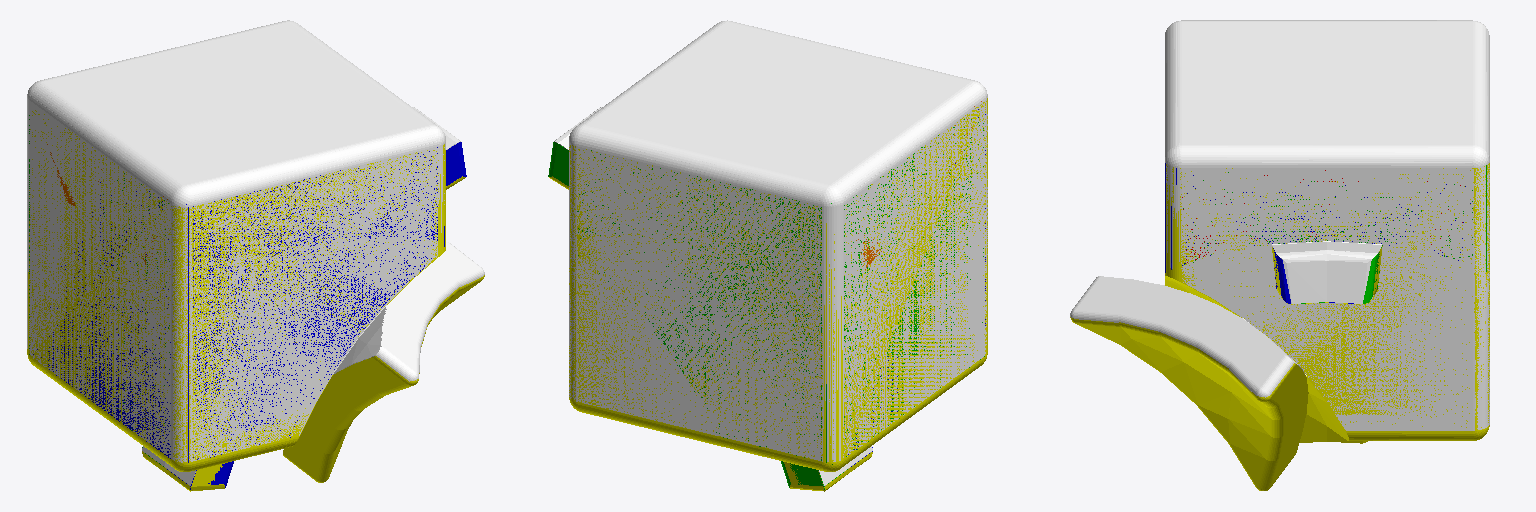
robot.urdf — rubix_cube:
<?xml version="1.0" encoding="UTF-8"?>
<robot name="rubix_cube">

  <!-- s = 0.019m: center-to-center distance between adjacent cubies (57mm cube / 3) -->

  <!-- ======== CORE ======== -->
  <link name="base_link">
    <visual>
      <geometry><mesh filename="package://rubix_cube/meshes/Center_Part.stl"/></geometry>
      <material><color rgba="0.2 0.2 0.2 1"/></material>
    </visual>
    <collision>
      <geometry><box size="0.057 0.057 0.057"/></geometry>
    </collision>
    <inertial>
      <mass value="0.3"/>
      <inertia ixx="0.001" ixy="0" ixz="0" iyy="0.001" iyz="0" izz="0.001"/>
    </inertial>
  </link>

  <!-- ======== TOP FACE (Z+, white) ======== -->
  <joint name="top_joint" type="revolute">
    <parent link="base_link"/><child link="top_face"/>
    <origin xyz="0 0 0" rpy="0 0 0"/>
    <axis xyz="0 0 1"/>
    <limit lower="-6.28" upper="6.28" effort="10" velocity="1"/>
  </joint>
  <link name="top_face">
    <inertial><mass value="0.05"/><inertia ixx="0.00001" ixy="0" ixz="0" iyy="0.00001" iyz="0" izz="0.00001"/></inertial>
  </link>

  <joint name="top_center_joint" type="fixed">
    <parent link="top_face"/><child link="top_center"/>
    <origin xyz="0 0 0.019" rpy="0 0 0"/>
  </joint>
  <link name="top_center">
    <visual><geometry><mesh filename="package://rubix_cube/meshes/Middle Square.stl"/></geometry><material><color rgba="1 1 1 1"/></material></visual>
    <inertial><mass value="0.005"/><inertia ixx="0.000001" ixy="0" ixz="0" iyy="0.000001" iyz="0" izz="0.000001"/></inertial>
  </link>

  <joint name="top_front_edge_joint" type="fixed">
    <parent link="top_face"/><child link="top_front_edge"/>
    <origin xyz="0 0.019 0.019" rpy="0 0 0"/>
  </joint>
  <link name="top_front_edge">
    <visual><geometry><mesh filename="package://rubix_cube/meshes/Edge Square.stl"/></geometry><material><color rgba="1 1 1 1"/></material></visual>
    <inertial><mass value="0.005"/><inertia ixx="0.000001" ixy="0" ixz="0" iyy="0.000001" iyz="0" izz="0.000001"/></inertial>
  </link>

  <joint name="top_back_edge_joint" type="fixed">
    <parent link="top_face"/><child link="top_back_edge"/>
    <origin xyz="0 -0.019 0.019" rpy="0 0 0"/>
  </joint>
  <link name="top_back_edge">
    <visual><geometry><mesh filename="package://rubix_cube/meshes/Edge Square.stl"/></geometry><material><color rgba="1 1 1 1"/></material></visual>
    <inertial><mass value="0.005"/><inertia ixx="0.000001" ixy="0" ixz="0" iyy="0.000001" iyz="0" izz="0.000001"/></inertial>
  </link>

  <joint name="top_right_edge_joint" type="fixed">
    <parent link="top_face"/><child link="top_right_edge"/>
    <origin xyz="0.019 0 0.019" rpy="0 0 0"/>
  </joint>
  <link name="top_right_edge">
    <visual><geometry><mesh filename="package://rubix_cube/meshes/Edge Square.stl"/></geometry><material><color rgba="1 1 1 1"/></material></visual>
    <inertial><mass value="0.005"/><inertia ixx="0.000001" ixy="0" ixz="0" iyy="0.000001" iyz="0" izz="0.000001"/></inertial>
  </link>

  <joint name="top_left_edge_joint" type="fixed">
    <parent link="top_face"/><child link="top_left_edge"/>
    <origin xyz="-0.019 0 0.019" rpy="0 0 0"/>
  </joint>
  <link name="top_left_edge">
    <visual><geometry><mesh filename="package://rubix_cube/meshes/Edge Square.stl"/></geometry><material><color rgba="1 1 1 1"/></material></visual>
    <inertial><mass value="0.005"/><inertia ixx="0.000001" ixy="0" ixz="0" iyy="0.000001" iyz="0" izz="0.000001"/></inertial>
  </link>

  <joint name="top_front_right_corner_joint" type="fixed">
    <parent link="top_face"/><child link="top_front_right_corner"/>
    <origin xyz="0.019 0.019 0.019" rpy="0 0 0"/>
  </joint>
  <link name="top_front_right_corner">
    <visual><geometry><mesh filename="package://rubix_cube/meshes/Corner Square.stl"/></geometry><material><color rgba="1 1 1 1"/></material></visual>
    <inertial><mass value="0.005"/><inertia ixx="0.000001" ixy="0" ixz="0" iyy="0.000001" iyz="0" izz="0.000001"/></inertial>
  </link>

  <joint name="top_front_left_corner_joint" type="fixed">
    <parent link="top_face"/><child link="top_front_left_corner"/>
    <origin xyz="-0.019 0.019 0.019" rpy="0 0 0"/>
  </joint>
  <link name="top_front_left_corner">
    <visual><geometry><mesh filename="package://rubix_cube/meshes/Corner Square.stl"/></geometry><material><color rgba="1 1 1 1"/></material></visual>
    <inertial><mass value="0.005"/><inertia ixx="0.000001" ixy="0" ixz="0" iyy="0.000001" iyz="0" izz="0.000001"/></inertial>
  </link>

  <joint name="top_back_right_corner_joint" type="fixed">
    <parent link="top_face"/><child link="top_back_right_corner"/>
    <origin xyz="0.019 -0.019 0.019" rpy="0 0 0"/>
  </joint>
  <link name="top_back_right_corner">
    <visual><geometry><mesh filename="package://rubix_cube/meshes/Corner Square.stl"/></geometry><material><color rgba="1 1 1 1"/></material></visual>
    <inertial><mass value="0.005"/><inertia ixx="0.000001" ixy="0" ixz="0" iyy="0.000001" iyz="0" izz="0.000001"/></inertial>
  </link>

  <joint name="top_back_left_corner_joint" type="fixed">
    <parent link="top_face"/><child link="top_back_left_corner"/>
    <origin xyz="-0.019 -0.019 0.019" rpy="0 0 0"/>
  </joint>
  <link name="top_back_left_corner">
    <visual><geometry><mesh filename="package://rubix_cube/meshes/Corner Square.stl"/></geometry><material><color rgba="1 1 1 1"/></material></visual>
    <inertial><mass value="0.005"/><inertia ixx="0.000001" ixy="0" ixz="0" iyy="0.000001" iyz="0" izz="0.000001"/></inertial>
  </link>

  <!-- ======== BOTTOM FACE (Z-, yellow) ======== -->
  <joint name="bottom_joint" type="revolute">
    <parent link="base_link"/><child link="bottom_face"/>
    <origin xyz="0 0 0" rpy="0 0 0"/>
    <axis xyz="0 0 1"/>
    <limit lower="-6.28" upper="6.28" effort="10" velocity="1"/>
  </joint>
  <link name="bottom_face">
    <inertial><mass value="0.05"/><inertia ixx="0.00001" ixy="0" ixz="0" iyy="0.00001" iyz="0" izz="0.00001"/></inertial>
  </link>

  <joint name="bottom_center_joint" type="fixed">
    <parent link="bottom_face"/><child link="bottom_center"/>
    <origin xyz="0 0 -0.019" rpy="0 0 0"/>
  </joint>
  <link name="bottom_center">
    <visual><geometry><mesh filename="package://rubix_cube/meshes/Middle Square.stl"/></geometry><material><color rgba="1 1 0 1"/></material></visual>
    <inertial><mass value="0.005"/><inertia ixx="0.000001" ixy="0" ixz="0" iyy="0.000001" iyz="0" izz="0.000001"/></inertial>
  </link>

  <joint name="bottom_front_edge_joint" type="fixed">
    <parent link="bottom_face"/><child link="bottom_front_edge"/>
    <origin xyz="0 0.019 -0.019" rpy="0 0 0"/>
  </joint>
  <link name="bottom_front_edge">
    <visual><geometry><mesh filename="package://rubix_cube/meshes/Edge Square.stl"/></geometry><material><color rgba="1 1 0 1"/></material></visual>
    <inertial><mass value="0.005"/><inertia ixx="0.000001" ixy="0" ixz="0" iyy="0.000001" iyz="0" izz="0.000001"/></inertial>
  </link>

  <joint name="bottom_back_edge_joint" type="fixed">
    <parent link="bottom_face"/><child link="bottom_back_edge"/>
    <origin xyz="0 -0.019 -0.019" rpy="0 0 0"/>
  </joint>
  <link name="bottom_back_edge">
    <visual><geometry><mesh filename="package://rubix_cube/meshes/Edge Square.stl"/></geometry><material><color rgba="1 1 0 1"/></material></visual>
    <inertial><mass value="0.005"/><inertia ixx="0.000001" ixy="0" ixz="0" iyy="0.000001" iyz="0" izz="0.000001"/></inertial>
  </link>

  <joint name="bottom_right_edge_joint" type="fixed">
    <parent link="bottom_face"/><child link="bottom_right_edge"/>
    <origin xyz="0.019 0 -0.019" rpy="0 0 0"/>
  </joint>
  <link name="bottom_right_edge">
    <visual><geometry><mesh filename="package://rubix_cube/meshes/Edge Square.stl"/></geometry><material><color rgba="1 1 0 1"/></material></visual>
    <inertial><mass value="0.005"/><inertia ixx="0.000001" ixy="0" ixz="0" iyy="0.000001" iyz="0" izz="0.000001"/></inertial>
  </link>

  <joint name="bottom_left_edge_joint" type="fixed">
    <parent link="bottom_face"/><child link="bottom_left_edge"/>
    <origin xyz="-0.019 0 -0.019" rpy="0 0 0"/>
  </joint>
  <link name="bottom_left_edge">
    <visual><geometry><mesh filename="package://rubix_cube/meshes/Edge Square.stl"/></geometry><material><color rgba="1 1 0 1"/></material></visual>
    <inertial><mass value="0.005"/><inertia ixx="0.000001" ixy="0" ixz="0" iyy="0.000001" iyz="0" izz="0.000001"/></inertial>
  </link>

  <joint name="bottom_front_right_corner_joint" type="fixed">
    <parent link="bottom_face"/><child link="bottom_front_right_corner"/>
    <origin xyz="0.019 0.019 -0.019" rpy="0 0 0"/>
  </joint>
  <link name="bottom_front_right_corner">
    <visual><geometry><mesh filename="package://rubix_cube/meshes/Corner Square.stl"/></geometry><material><color rgba="1 1 0 1"/></material></visual>
    <inertial><mass value="0.005"/><inertia ixx="0.000001" ixy="0" ixz="0" iyy="0.000001" iyz="0" izz="0.000001"/></inertial>
  </link>

  <joint name="bottom_front_left_corner_joint" type="fixed">
    <parent link="bottom_face"/><child link="bottom_front_left_corner"/>
    <origin xyz="-0.019 0.019 -0.019" rpy="0 0 0"/>
  </joint>
  <link name="bottom_front_left_corner">
    <visual><geometry><mesh filename="package://rubix_cube/meshes/Corner Square.stl"/></geometry><material><color rgba="1 1 0 1"/></material></visual>
    <inertial><mass value="0.005"/><inertia ixx="0.000001" ixy="0" ixz="0" iyy="0.000001" iyz="0" izz="0.000001"/></inertial>
  </link>

  <joint name="bottom_back_right_corner_joint" type="fixed">
    <parent link="bottom_face"/><child link="bottom_back_right_corner"/>
    <origin xyz="0.019 -0.019 -0.019" rpy="0 0 0"/>
  </joint>
  <link name="bottom_back_right_corner">
    <visual><geometry><mesh filename="package://rubix_cube/meshes/Corner Square.stl"/></geometry><material><color rgba="1 1 0 1"/></material></visual>
    <inertial><mass value="0.005"/><inertia ixx="0.000001" ixy="0" ixz="0" iyy="0.000001" iyz="0" izz="0.000001"/></inertial>
  </link>

  <joint name="bottom_back_left_corner_joint" type="fixed">
    <parent link="bottom_face"/><child link="bottom_back_left_corner"/>
    <origin xyz="-0.019 -0.019 -0.019" rpy="0 0 0"/>
  </joint>
  <link name="bottom_back_left_corner">
    <visual><geometry><mesh filename="package://rubix_cube/meshes/Corner Square.stl"/></geometry><material><color rgba="1 1 0 1"/></material></visual>
    <inertial><mass value="0.005"/><inertia ixx="0.000001" ixy="0" ixz="0" iyy="0.000001" iyz="0" izz="0.000001"/></inertial>
  </link>

  <!-- ======== FRONT FACE (Y+, green) ======== -->
  <joint name="front_joint" type="revolute">
    <parent link="base_link"/><child link="front_face"/>
    <origin xyz="0 0 0" rpy="0 0 0"/>
    <axis xyz="0 1 0"/>
    <limit lower="-6.28" upper="6.28" effort="10" velocity="1"/>
  </joint>
  <link name="front_face">
    <inertial><mass value="0.05"/><inertia ixx="0.00001" ixy="0" ixz="0" iyy="0.00001" iyz="0" izz="0.00001"/></inertial>
  </link>

  <joint name="front_center_joint" type="fixed">
    <parent link="front_face"/><child link="front_center"/>
    <origin xyz="0 0.019 0" rpy="0 0 0"/>
  </joint>
  <link name="front_center">
    <visual><geometry><mesh filename="package://rubix_cube/meshes/Middle Square.stl"/></geometry><material><color rgba="0 0.8 0 1"/></material></visual>
    <inertial><mass value="0.005"/><inertia ixx="0.000001" ixy="0" ixz="0" iyy="0.000001" iyz="0" izz="0.000001"/></inertial>
  </link>

  <joint name="front_right_edge_joint" type="fixed">
    <parent link="front_face"/><child link="front_right_edge"/>
    <origin xyz="0.019 0.019 0" rpy="0 0 0"/>
  </joint>
  <link name="front_right_edge">
    <visual><geometry><mesh filename="package://rubix_cube/meshes/Edge Square.stl"/></geometry><material><color rgba="0 0.8 0 1"/></material></visual>
    <inertial><mass value="0.005"/><inertia ixx="0.000001" ixy="0" ixz="0" iyy="0.000001" iyz="0" izz="0.000001"/></inertial>
  </link>

  <joint name="front_left_edge_joint" type="fixed">
    <parent link="front_face"/><child link="front_left_edge"/>
    <origin xyz="-0.019 0.019 0" rpy="0 0 0"/>
  </joint>
  <link name="front_left_edge">
    <visual><geometry><mesh filename="package://rubix_cube/meshes/Edge Square.stl"/></geometry><material><color rgba="0 0.8 0 1"/></material></visual>
    <inertial><mass value="0.005"/><inertia ixx="0.000001" ixy="0" ixz="0" iyy="0.000001" iyz="0" izz="0.000001"/></inertial>
  </link>

  <!-- ======== BACK FACE (Y-, blue) ======== -->
  <joint name="back_joint" type="revolute">
    <parent link="base_link"/><child link="back_face"/>
    <origin xyz="0 0 0" rpy="0 0 0"/>
    <axis xyz="0 1 0"/>
    <limit lower="-6.28" upper="6.28" effort="10" velocity="1"/>
  </joint>
  <link name="back_face">
    <inertial><mass value="0.05"/><inertia ixx="0.00001" ixy="0" ixz="0" iyy="0.00001" iyz="0" izz="0.00001"/></inertial>
  </link>

  <joint name="back_center_joint" type="fixed">
    <parent link="back_face"/><child link="back_center"/>
    <origin xyz="0 -0.019 0" rpy="0 0 0"/>
  </joint>
  <link name="back_center">
    <visual><geometry><mesh filename="package://rubix_cube/meshes/Middle Square.stl"/></geometry><material><color rgba="0 0 1 1"/></material></visual>
    <inertial><mass value="0.005"/><inertia ixx="0.000001" ixy="0" ixz="0" iyy="0.000001" iyz="0" izz="0.000001"/></inertial>
  </link>

  <joint name="back_right_edge_joint" type="fixed">
    <parent link="back_face"/><child link="back_right_edge"/>
    <origin xyz="0.019 -0.019 0" rpy="0 0 0"/>
  </joint>
  <link name="back_right_edge">
    <visual><geometry><mesh filename="package://rubix_cube/meshes/Edge Square.stl"/></geometry><material><color rgba="0 0 1 1"/></material></visual>
    <inertial><mass value="0.005"/><inertia ixx="0.000001" ixy="0" ixz="0" iyy="0.000001" iyz="0" izz="0.000001"/></inertial>
  </link>

  <joint name="back_left_edge_joint" type="fixed">
    <parent link="back_face"/><child link="back_left_edge"/>
    <origin xyz="-0.019 -0.019 0" rpy="0 0 0"/>
  </joint>
  <link name="back_left_edge">
    <visual><geometry><mesh filename="package://rubix_cube/meshes/Edge Square.stl"/></geometry><material><color rgba="0 0 1 1"/></material></visual>
    <inertial><mass value="0.005"/><inertia ixx="0.000001" ixy="0" ixz="0" iyy="0.000001" iyz="0" izz="0.000001"/></inertial>
  </link>

  <!-- ======== RIGHT FACE (X+, red) ======== -->
  <joint name="right_joint" type="revolute">
    <parent link="base_link"/><child link="right_face"/>
    <origin xyz="0 0 0" rpy="0 0 0"/>
    <axis xyz="1 0 0"/>
    <limit lower="-6.28" upper="6.28" effort="10" velocity="1"/>
  </joint>
  <link name="right_face">
    <inertial><mass value="0.05"/><inertia ixx="0.00001" ixy="0" ixz="0" iyy="0.00001" iyz="0" izz="0.00001"/></inertial>
  </link>

  <joint name="right_center_joint" type="fixed">
    <parent link="right_face"/><child link="right_center"/>
    <origin xyz="0.019 0 0" rpy="0 0 0"/>
  </joint>
  <link name="right_center">
    <visual><geometry><mesh filename="package://rubix_cube/meshes/Middle Square.stl"/></geometry><material><color rgba="1 0 0 1"/></material></visual>
    <inertial><mass value="0.005"/><inertia ixx="0.000001" ixy="0" ixz="0" iyy="0.000001" iyz="0" izz="0.000001"/></inertial>
  </link>

  <!-- ======== LEFT FACE (X-, orange) ======== -->
  <joint name="left_joint" type="revolute">
    <parent link="base_link"/><child link="left_face"/>
    <origin xyz="0 0 0" rpy="0 0 0"/>
    <axis xyz="1 0 0"/>
    <limit lower="-6.28" upper="6.28" effort="10" velocity="1"/>
  </joint>
  <link name="left_face">
    <inertial><mass value="0.05"/><inertia ixx="0.00001" ixy="0" ixz="0" iyy="0.00001" iyz="0" izz="0.00001"/></inertial>
  </link>

  <joint name="left_center_joint" type="fixed">
    <parent link="left_face"/><child link="left_center"/>
    <origin xyz="-0.019 0 0" rpy="0 0 0"/>
  </joint>
  <link name="left_center">
    <visual><geometry><mesh filename="package://rubix_cube/meshes/Middle Square.stl"/></geometry><material><color rgba="1 0.5 0 1"/></material></visual>
    <inertial><mass value="0.005"/><inertia ixx="0.000001" ixy="0" ixz="0" iyy="0.000001" iyz="0" izz="0.000001"/></inertial>
  </link>

</robot>

--- Facts derived from the render (not from the file) ---
The picture shows the robot from 3 angles, left to right: view 1: azimuth 30°, elevation 25°; view 2: azimuth 150°, elevation 25°; view 3: azimuth 270°, elevation 25°; orthographic projection.
Robot: rubix_cube — 33 links, 32 joints (6 revolute, 26 fixed); root link base_link; default pose: every joint at zero.
Visible links, largest first — view 1: top_back_edge, top_front_right_corner, top_left_edge, bottom_back_left_corner, top_back_left_corner, top_back_right_corner, top_center, top_front_left_corner, top_front_edge, back_left_edge, bottom_left_edge, bottom_back_right_corner (+4 smaller); view 2: top_front_right_corner, top_front_left_corner, top_center, top_front_edge, bottom_front_left_corner, top_left_edge, bottom_front_right_corner, top_right_edge, top_back_left_corner, top_back_right_corner, bottom_front_edge, front_left_edge (+3 smaller); view 3: top_front_right_corner, top_back_right_corner, top_right_edge, top_left_edge, bottom_back_right_corner, bottom_front_right_corner, top_front_left_corner, top_back_left_corner, top_center, top_front_edge, bottom_right_edge, top_back_edge (+2 smaller).
Boxes of the visible links, <box> form: top_back_edge: <box>67,89,458,460</box>; top_front_right_corner: <box>44,20,427,344</box>; top_left_edge: <box>30,50,455,485</box>; bottom_back_left_corner: <box>30,138,436,482</box>; top_back_left_corner: <box>30,88,436,462</box>; top_back_right_corner: <box>56,28,484,452</box>; top_center: <box>67,22,427,184</box>; top_front_left_corner: <box>27,24,386,456</box>; top_front_edge: <box>45,23,420,164</box>; back_left_edge: <box>33,167,431,489</box>; bottom_left_edge: <box>30,110,190,490</box>; bottom_back_right_corner: <box>194,144,484,481</box>; top_front_right_corner: <box>569,31,828,460</box>; top_front_left_corner: <box>578,89,984,461</box>; top_center: <box>587,22,969,184</box>; top_front_edge: <box>556,78,826,485</box>; bottom_front_left_corner: <box>578,102,984,471</box>; top_left_edge: <box>559,25,983,485</box>; bottom_front_right_corner: <box>569,145,820,468</box>; top_right_edge: <box>554,22,868,180</box>; top_back_left_corner: <box>620,24,987,447</box>; top_back_right_corner: <box>580,20,970,182</box>; bottom_front_edge: <box>549,149,824,491</box>; front_left_edge: <box>559,119,984,489</box>; top_front_right_corner: <box>1111,22,1489,430</box>; top_back_right_corner: <box>1070,25,1472,430</box>; top_right_edge: <box>1182,22,1475,303</box>; top_left_edge: <box>1182,22,1471,252</box>; bottom_back_right_corner: <box>1070,164,1470,490</box>; bottom_front_right_corner: <box>1182,163,1489,490</box>; top_front_left_corner: <box>1159,20,1489,365</box>; top_back_left_corner: <box>1070,20,1471,341</box>; top_center: <box>1182,23,1471,144</box>; top_front_edge: <box>1182,23,1486,253</box>; bottom_right_edge: <box>1182,171,1471,443</box>; top_back_edge: <box>1165,23,1470,253</box>.
Bounding box of the posed robot: 24.56 × 24.56 × 24.56 m (x, y, z).
Meshes: 4 distinct files referenced, 27 mesh visuals loaded (4 binary STL).
